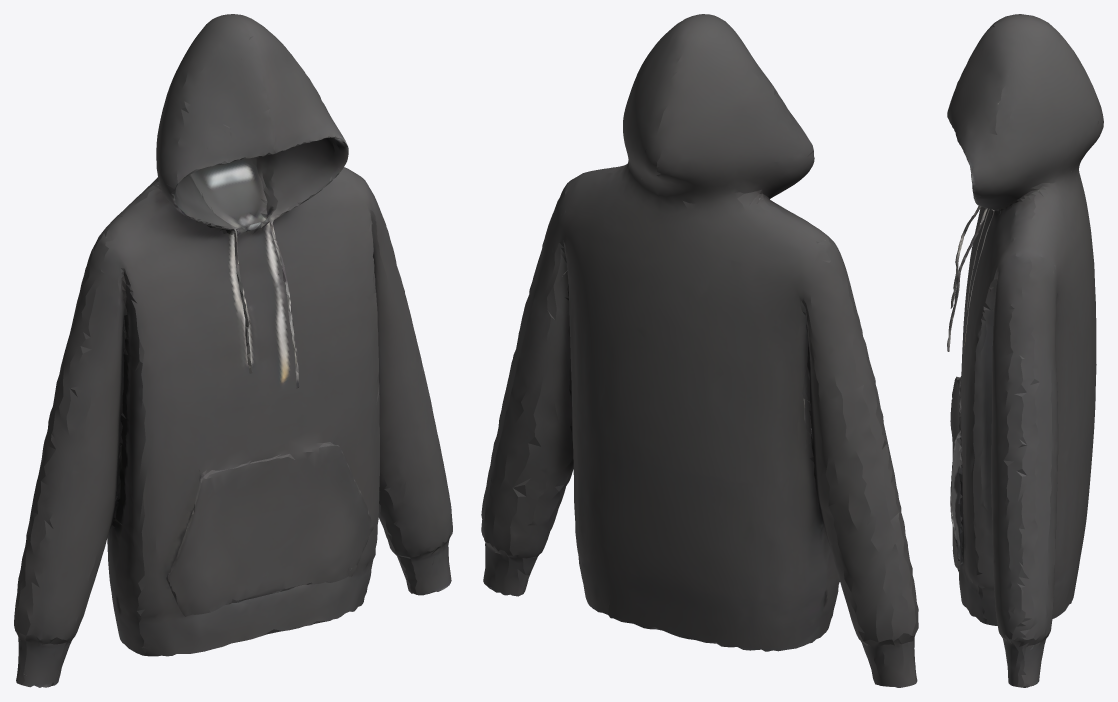
Rendered from hoodie_3d.glb.
The picture shows the model from 3 angles, left to right: view 1: azimuth 30°, elevation 25°; view 2: azimuth 150°, elevation 25°; view 3: azimuth 270°, elevation 25°; orthographic projection. The views are drawn at different scales.
Parts seen in each view (by area): view 1: inryoku_hoodie_v1; view 2: inryoku_hoodie_v1; view 3: inryoku_hoodie_v1.
Boxes of the visible parts, x1,y1,x2,y2 form: inryoku_hoodie_v1: (14, 14, 452, 687); inryoku_hoodie_v1: (481, 14, 918, 687); inryoku_hoodie_v1: (947, 14, 1103, 687).
Bounding box in the file's own units: 1.39 × 1.9 × 0.4666.
1 material, 1 textured.
